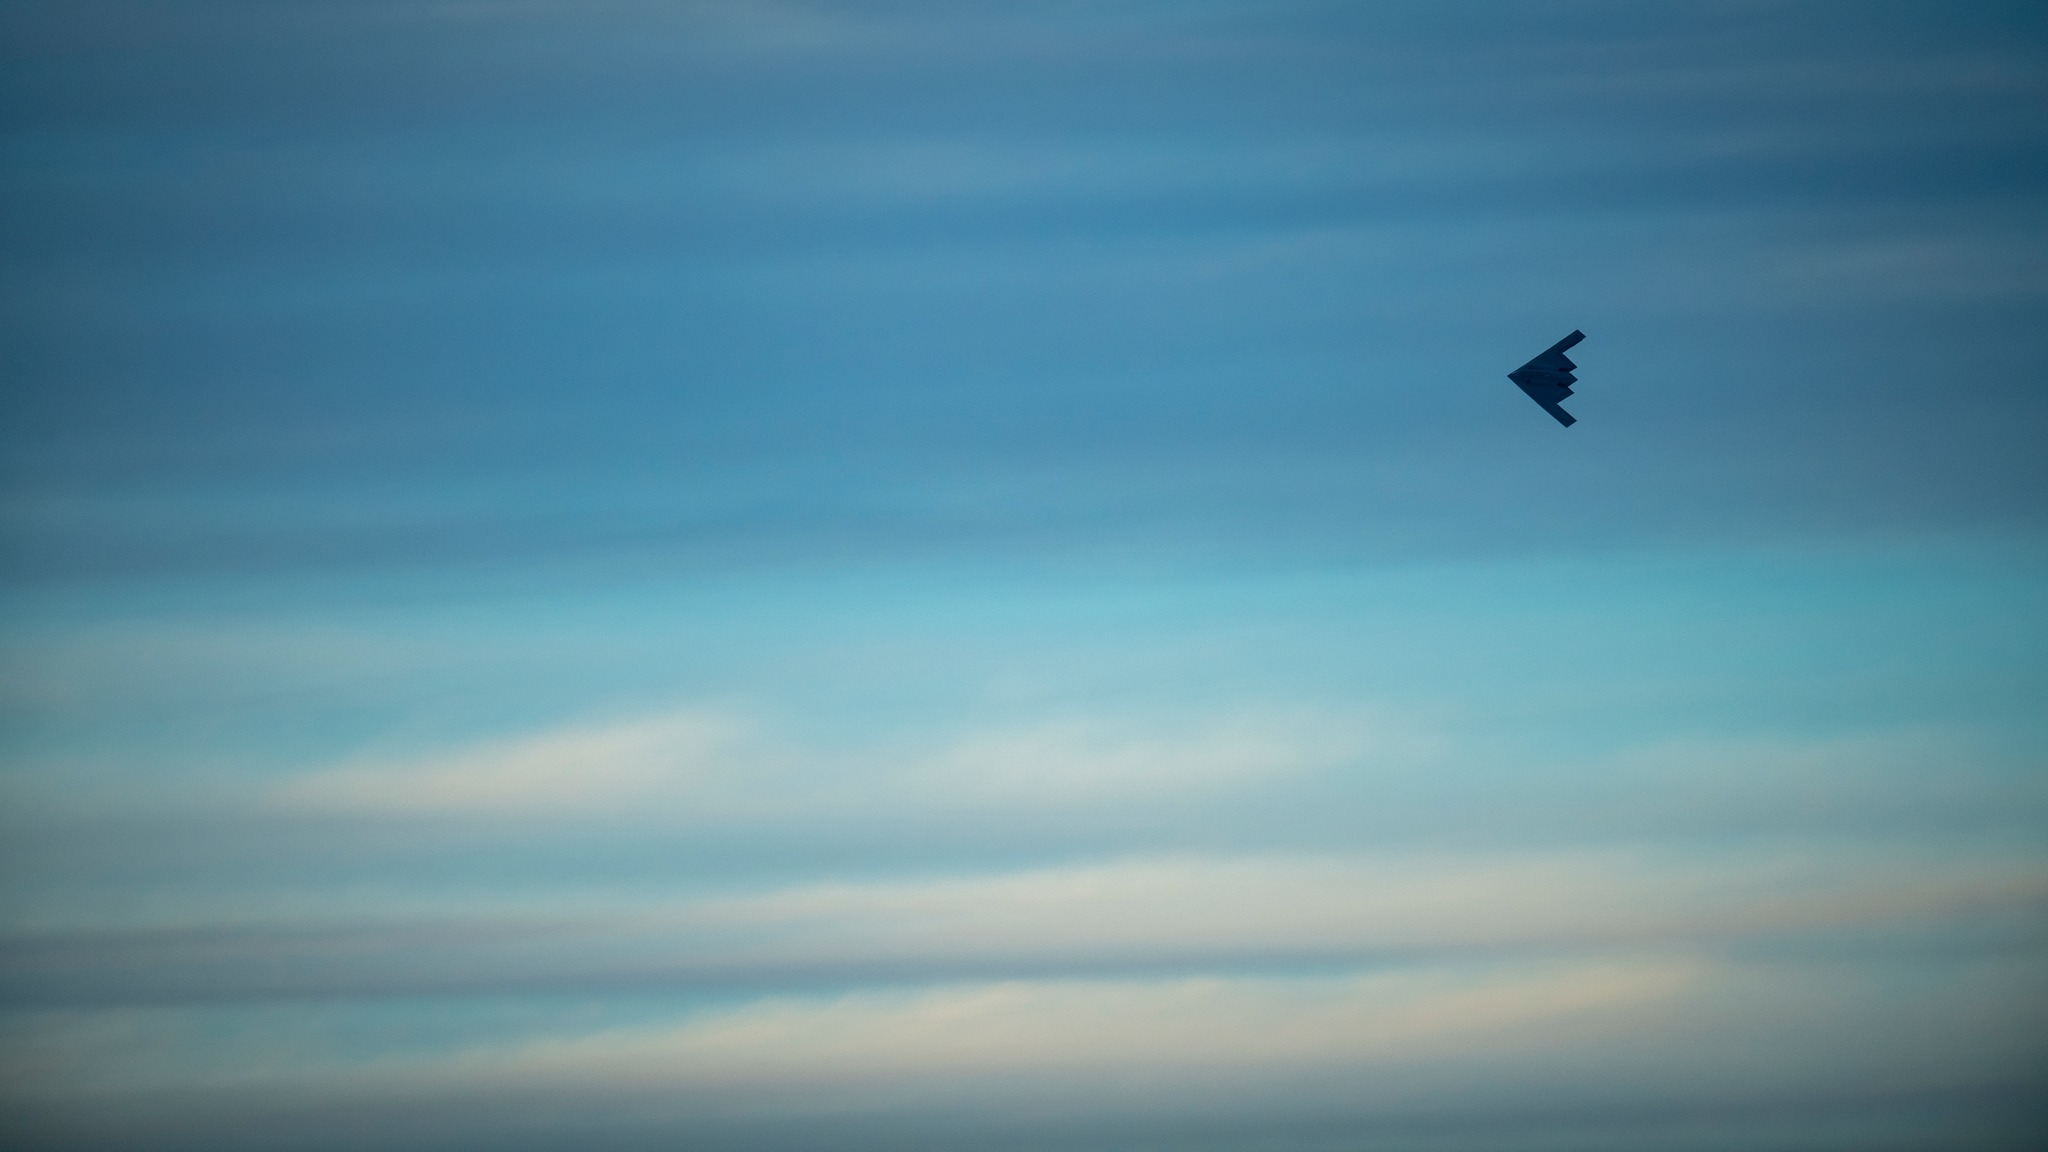B2: (1506, 328, 1587, 429)
